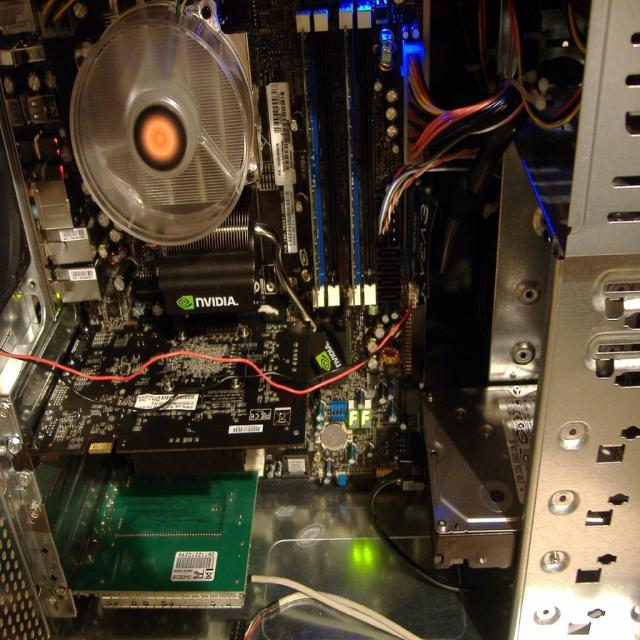nvidia: (316, 353, 334, 372), (177, 295, 197, 311)
